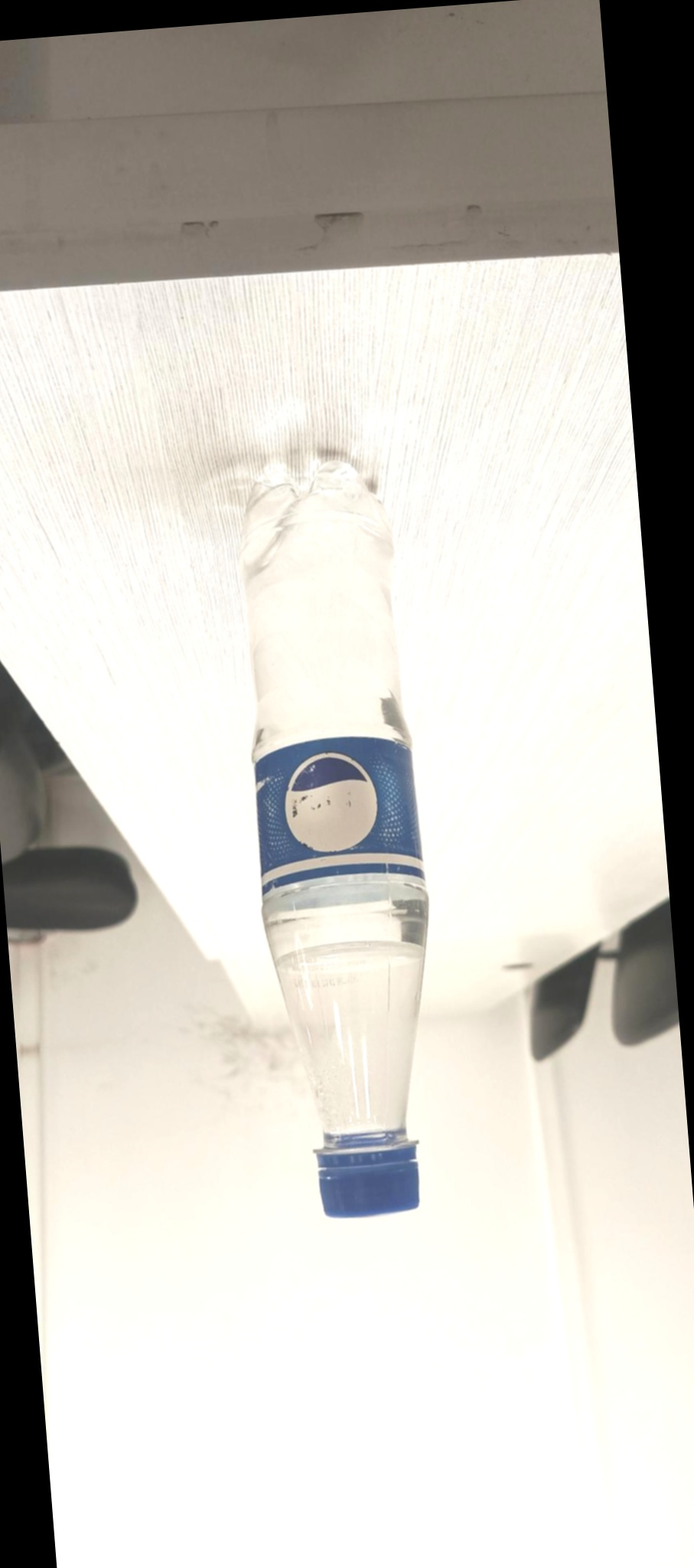Pepsi Bottle: (162, 411, 487, 1240), (175, 416, 482, 1237)
